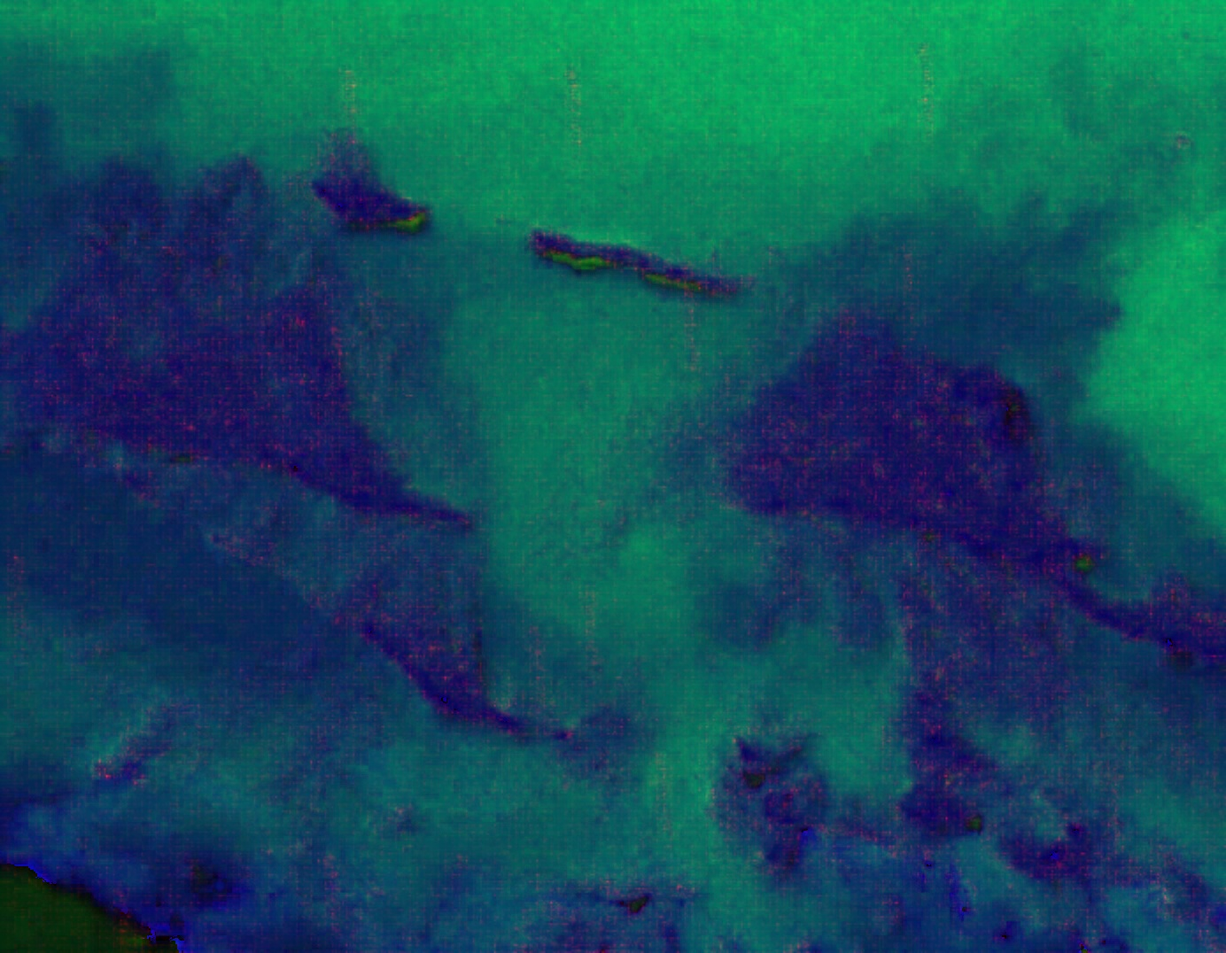rip_current: (388, 159, 774, 724)
